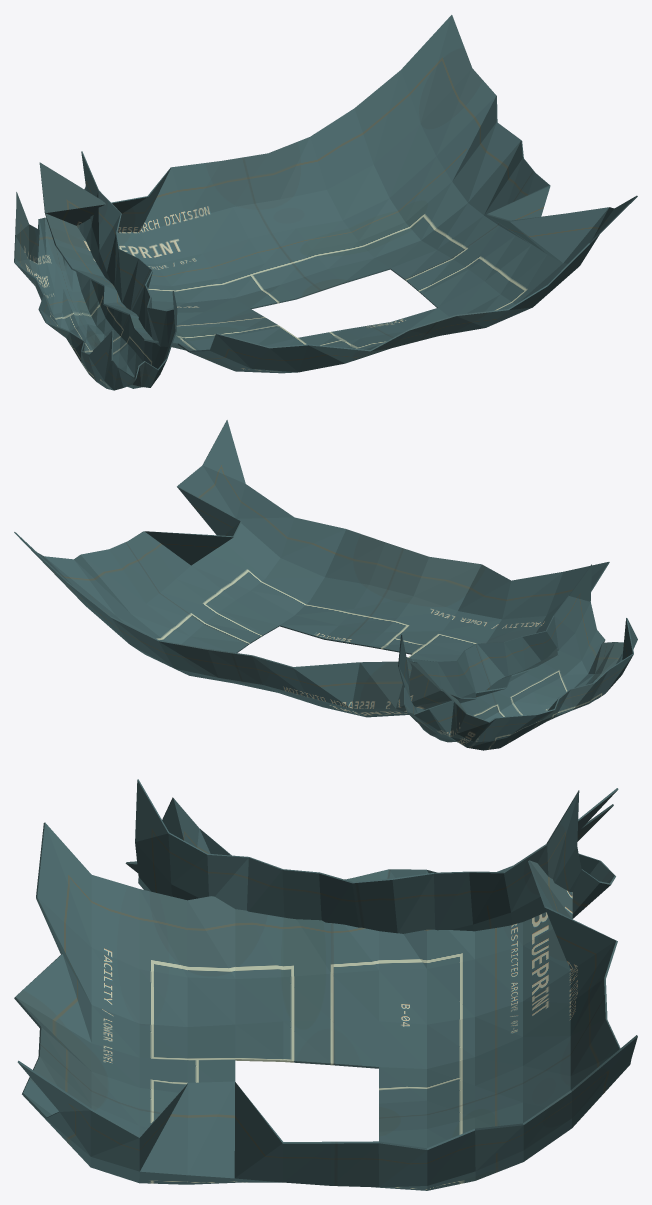
The model's file is DS_Clue_FacilityPlan_Damaged_V02.fbx.
The picture shows the model from 3 angles, top to bottom: view 1: azimuth 30°, elevation 25°; view 2: azimuth 150°, elevation 25°; view 3: azimuth 270°, elevation 25°; orthographic projection. The views are drawn at different scales.
Parts seen in each view (by area): view 1: DS_Clue_FacilityPlan_Damaged_V02; view 2: DS_Clue_FacilityPlan_Damaged_V02; view 3: DS_Clue_FacilityPlan_Damaged_V02.
Boxes of the visible parts, bbox=[...] form: DS_Clue_FacilityPlan_Damaged_V02: bbox=[14, 15, 637, 390]; DS_Clue_FacilityPlan_Damaged_V02: bbox=[14, 420, 637, 750]; DS_Clue_FacilityPlan_Damaged_V02: bbox=[14, 779, 637, 1190].
Bounding box in the file's own units: 113 × 34.73 × 78.15.
Materials: 1 (1 with a texture image).
